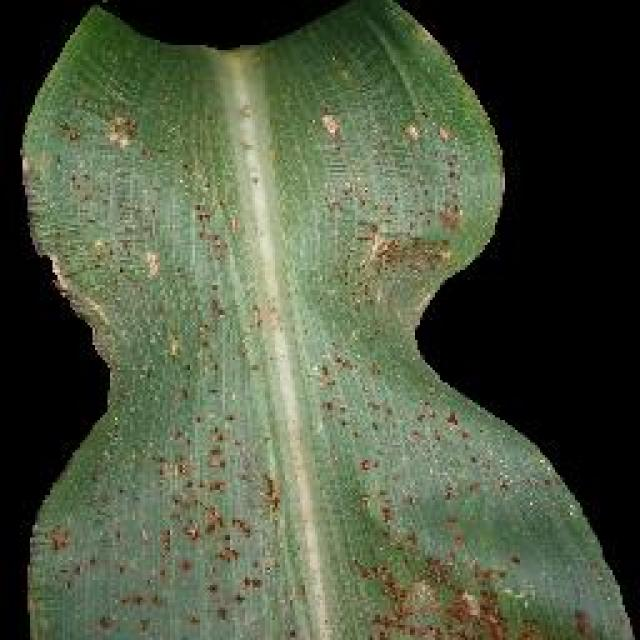Corn Common Rust: (132, 52, 530, 640)
